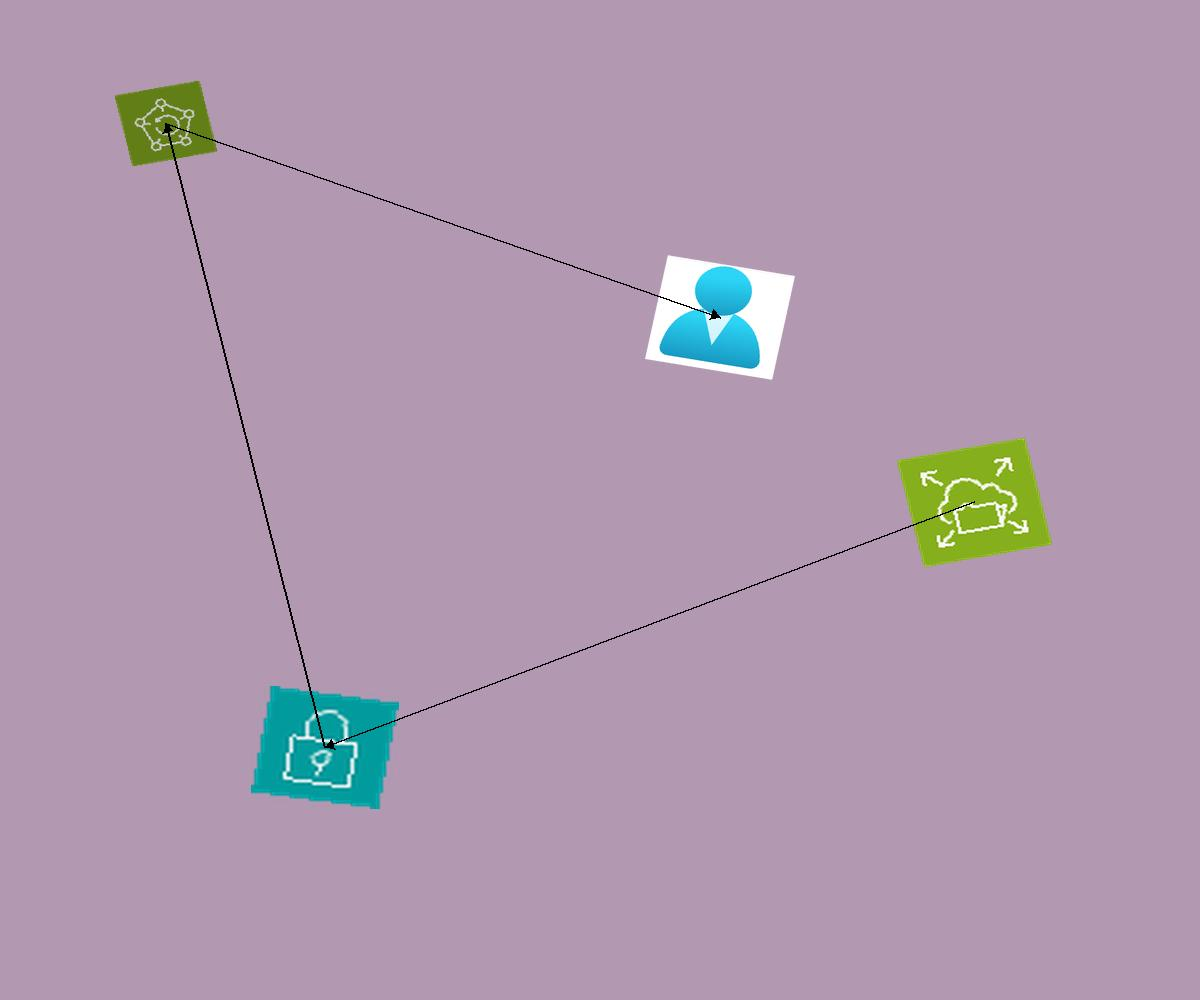AWS-Backup: (114, 80, 218, 167)
AWS-EFS: (896, 437, 1053, 568)
AWS-Private-subnet: (251, 686, 399, 809)
Azure_users: (645, 255, 795, 380)
